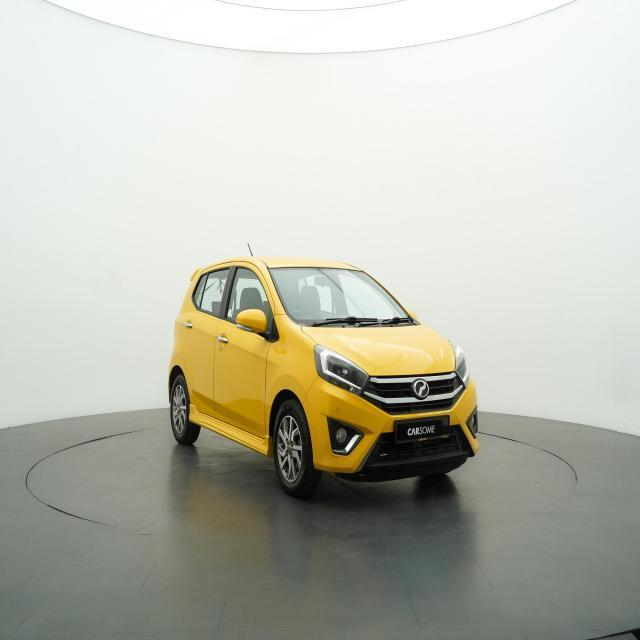PeroduaAxia: (166, 247, 480, 499)
